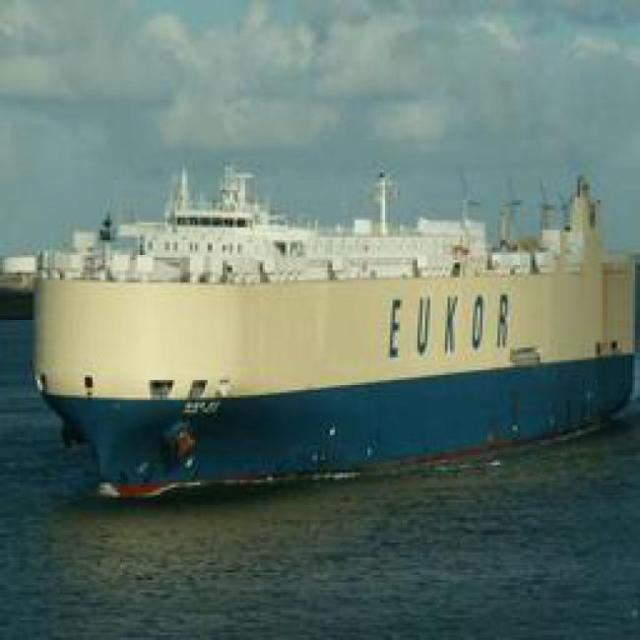boat: (6, 230, 635, 466)
